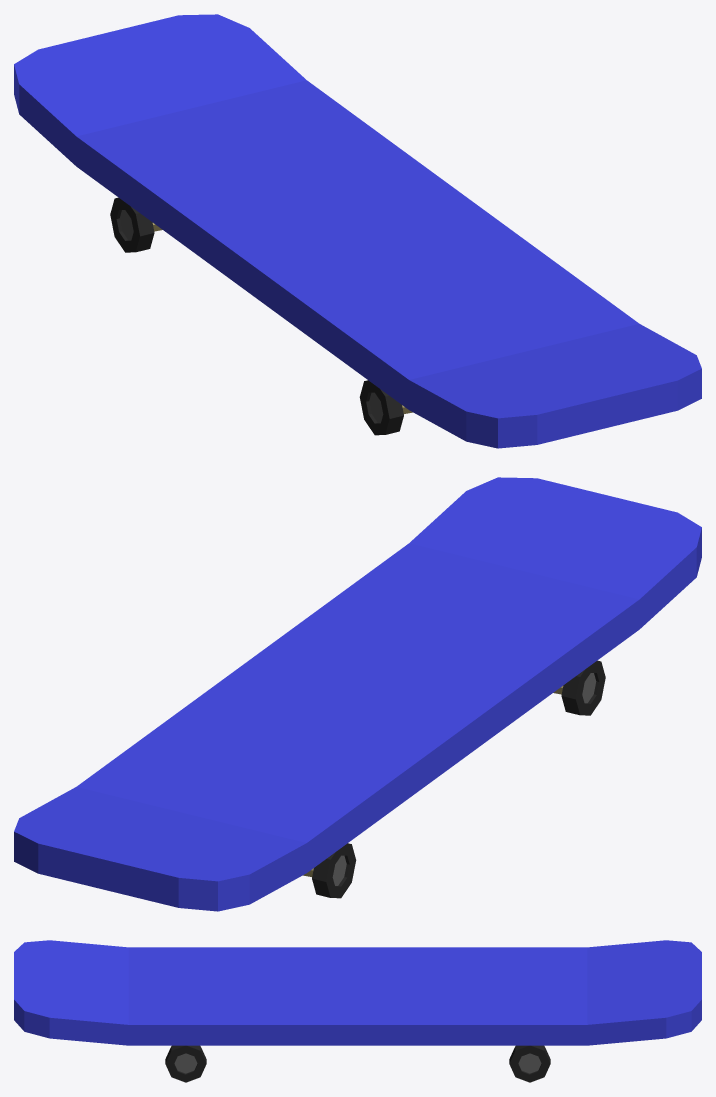
Rendered from SkateModel.fbx.
3 renders of one model, top to bottom at view 1: azimuth 30°, elevation 25°; view 2: azimuth 150°, elevation 25°; view 3: azimuth 270°, elevation 25°, orthographic. The views are drawn at different scales.
Visible parts, largest first — view 1: Skate; view 2: Skate; view 3: Skate.
Part boxes in pixels (left/top/right/bottom): Skate: left=14, top=14, right=701, bottom=448; Skate: left=14, top=477, right=701, bottom=911; Skate: left=14, top=940, right=701, bottom=1082.
Size of the model in its own units: 160 by 68 by 600.
